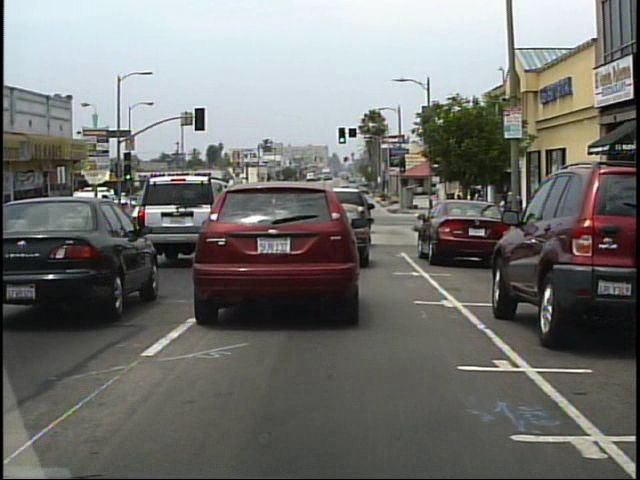person: (471, 191, 486, 228), (463, 193, 476, 235), (452, 193, 464, 235)
